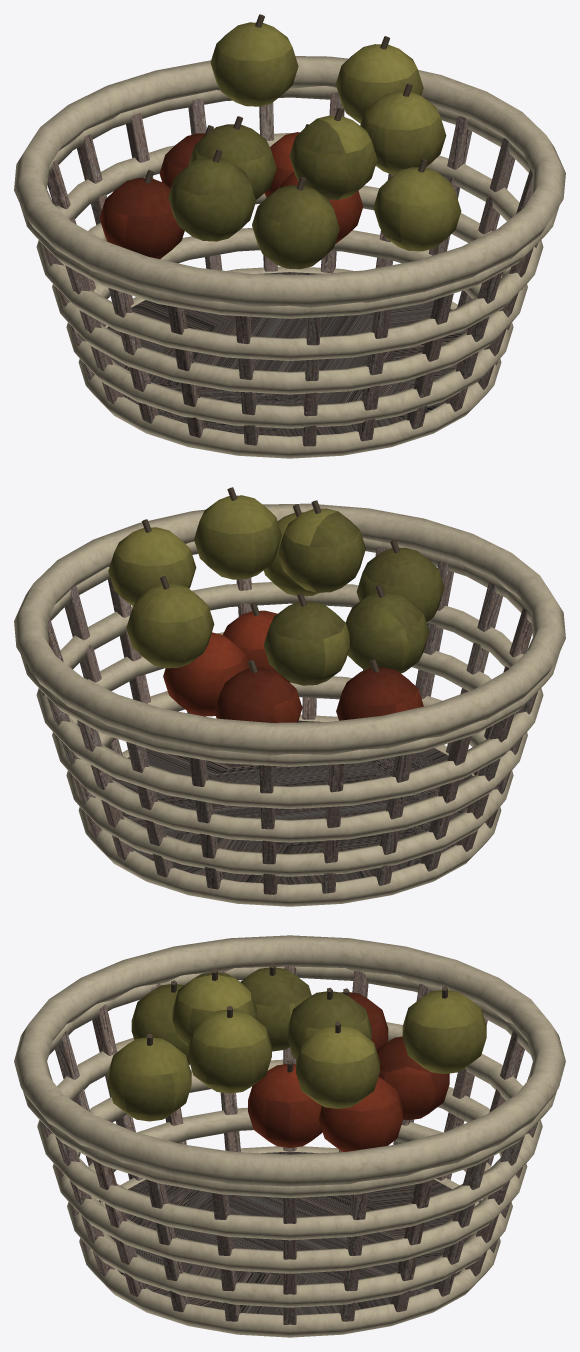
Rendered from Basket_Produce.gltf.
The picture shows the model from 3 angles, top to bottom: view 1: azimuth 30°, elevation 25°; view 2: azimuth 150°, elevation 25°; view 3: azimuth 270°, elevation 25°; orthographic projection.
Visible parts, largest first — view 1: Basket_Produce; view 2: Basket_Produce; view 3: Basket_Produce.
Boxes of the visible parts, <box> form: Basket_Produce: <box>14,14,565,458</box>; Basket_Produce: <box>14,487,565,906</box>; Basket_Produce: <box>14,935,565,1337</box>.
Size of the model in its own units: 0.5 by 0.2886 by 0.5.
Materials: 6 (6 with a texture image).
